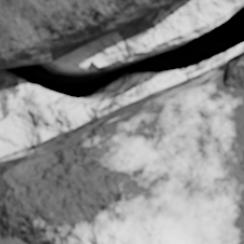brick: (0, 51, 243, 243), (0, 0, 177, 66)
crack: (0, 0, 243, 100)
